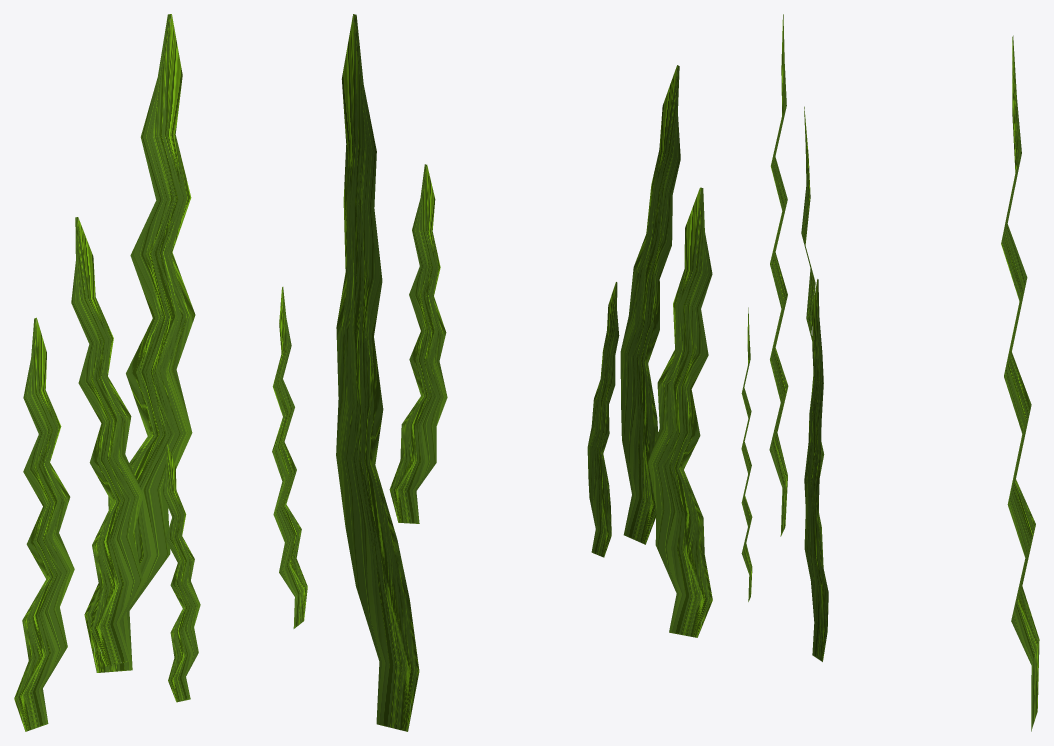
Rendered from SeaWeed.fbx.
3 renders of one model, left to right at view 1: azimuth 30°, elevation 25°; view 2: azimuth 150°, elevation 25°; view 3: azimuth 270°, elevation 25°, orthographic. The views are drawn at different scales.
Visible parts, largest first — view 1: Seeaweed, Seeaweed_2, Seeaweed_3, Seeaweed_4, Seeaweed_7; view 2: Seeaweed, Seeaweed_3, Seeaweed_2, Seeaweed_7, Seeaweed_4; view 3: Seeaweed, Seeaweed_7, Seeaweed_2, Seeaweed_3, Seeaweed_4.
Part boxes in pixels (<box>): Seeaweed: <box>84,14,195,672</box>; Seeaweed_2: <box>71,217,143,666</box>; Seeaweed_3: <box>14,317,74,731</box>; Seeaweed_4: <box>162,444,200,702</box>; Seeaweed_7: <box>272,287,307,628</box>; Seeaweed: <box>336,14,419,731</box>; Seeaweed_3: <box>648,187,712,637</box>; Seeaweed_2: <box>620,65,680,544</box>; Seeaweed_7: <box>389,164,447,523</box>; Seeaweed_4: <box>587,282,619,557</box>; Seeaweed: <box>1001,35,1039,731</box>; Seeaweed_7: <box>804,279,828,661</box>; Seeaweed_2: <box>769,14,788,536</box>; Seeaweed_3: <box>801,106,824,567</box>; Seeaweed_4: <box>741,307,752,601</box>.
Size of the model in its own units: 73.53 by 154 by 58.5.
Materials: 1 (1 with a texture image).
